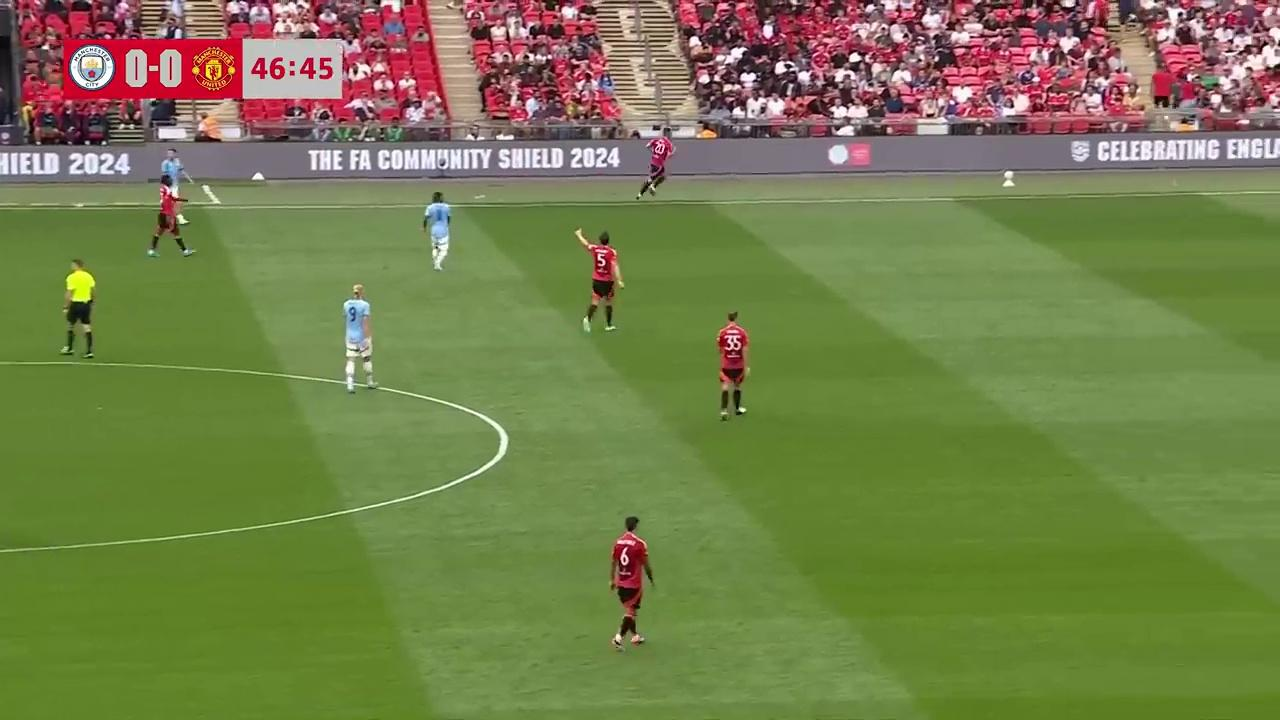player: (608, 515, 654, 653), (577, 230, 624, 332), (342, 284, 376, 394), (716, 310, 749, 421), (147, 185, 193, 258), (421, 191, 452, 270), (636, 142, 671, 200), (162, 151, 190, 199)
referee: (60, 258, 97, 359)
